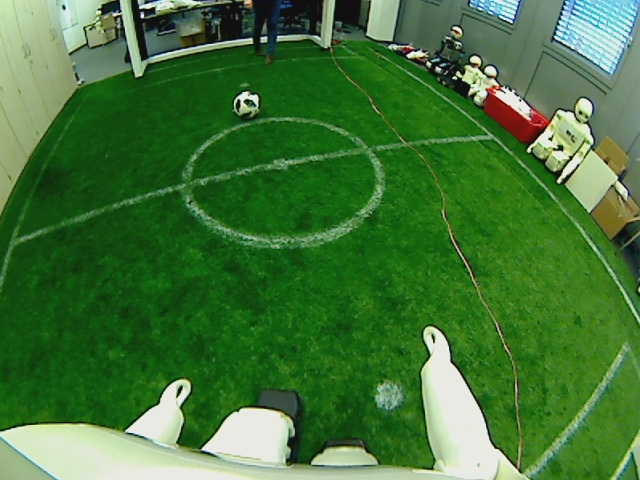ball: (232, 87, 261, 120)
